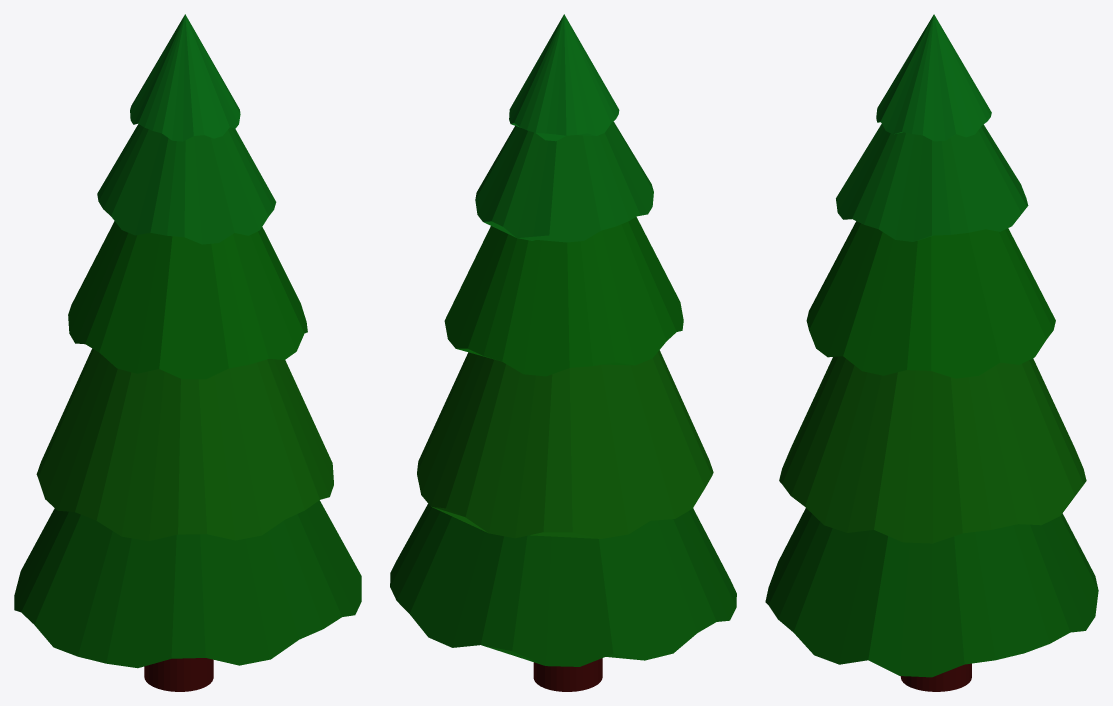
Rendered from tree 1 .fbx.
3 views of the same model, side by side, from view 1: azimuth 30°, elevation 25°; view 2: azimuth 150°, elevation 25°; view 3: azimuth 270°, elevation 25° (orthographic).
Visible parts, largest first — view 1: Cone.007, Cone.006, Cone.008, Cone.009, Cone.010, Cylinder.002; view 2: Cone.007, Cone.006, Cone.008, Cone.009, Cone.010, Cylinder.002; view 3: Cone.007, Cone.006, Cone.008, Cone.009, Cone.010, Cylinder.002.
Boxes of the visible parts, <box> form: Cone.007: <box>36,348,333,540</box>; Cone.006: <box>14,500,361,668</box>; Cone.008: <box>68,221,307,379</box>; Cone.009: <box>97,124,276,244</box>; Cone.010: <box>130,14,240,141</box>; Cylinder.002: <box>144,658,213,691</box>; Cone.007: <box>417,350,713,538</box>; Cone.006: <box>390,503,736,666</box>; Cone.008: <box>444,217,683,376</box>; Cone.009: <box>475,121,653,242</box>; Cone.010: <box>509,14,619,141</box>; Cylinder.002: <box>533,658,602,691</box>; Cone.007: <box>779,356,1086,543</box>; Cone.006: <box>765,508,1098,677</box>; Cone.008: <box>806,221,1055,378</box>; Cone.009: <box>836,124,1028,241</box>; Cone.010: <box>876,14,991,141</box>; Cylinder.002: <box>900,663,971,691</box>.
Bounding box in the file's own units: 2746 × 5660 × 2567.
